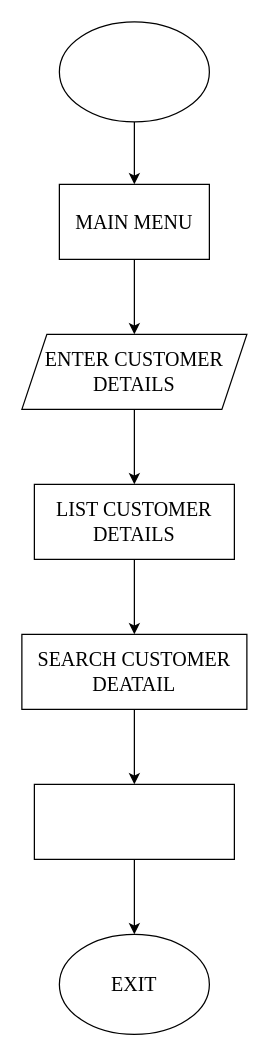
The diagram is 269 pixels wide and 1056 high, and some of its shapes have lost their labels. The centre of each missing label's shape, as x and y in pixels:
DELETE CUSTOMER DETAIL: point 133,821
START: point 133,71
